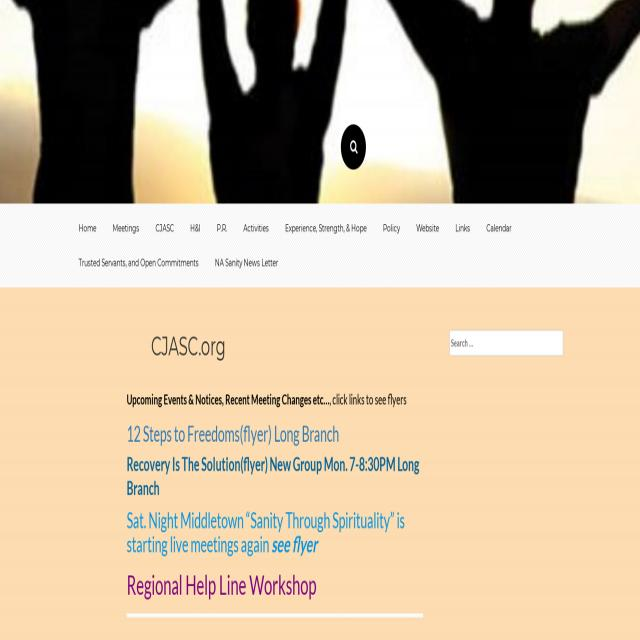field: (449, 330, 563, 356)
